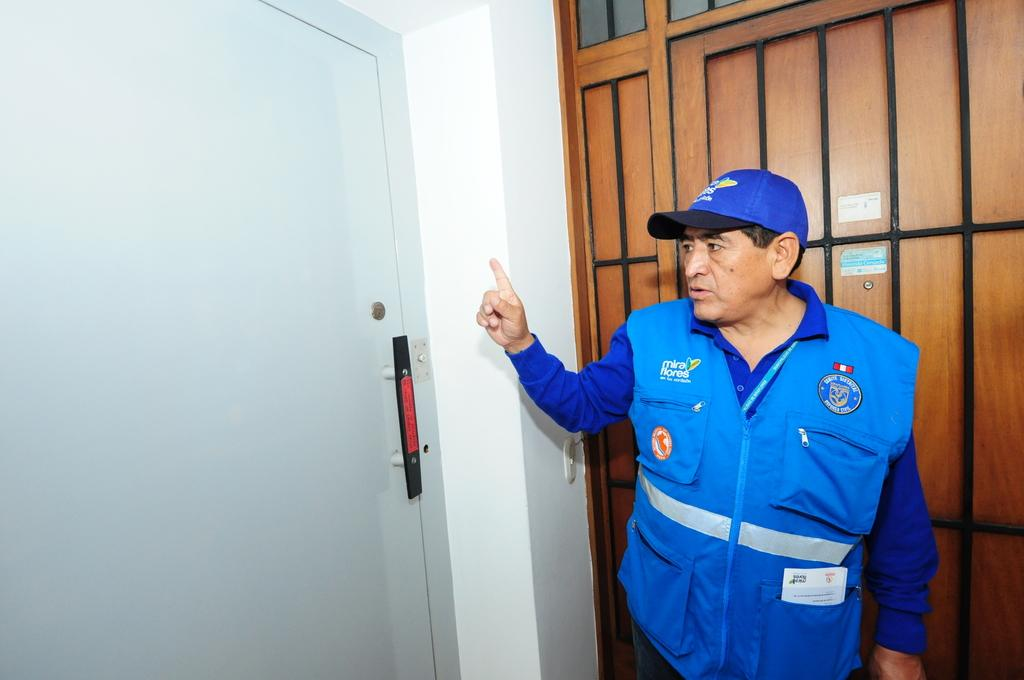Hat: (644, 166, 808, 245)
